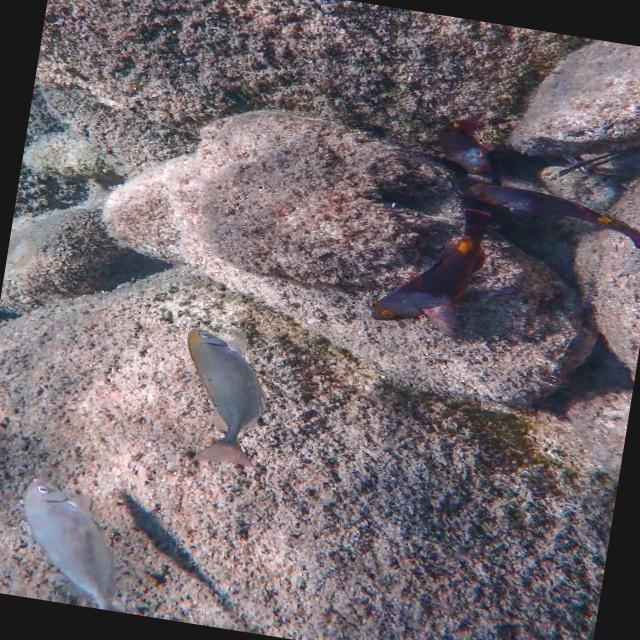Sokar Baligi: (152, 316, 290, 475)
